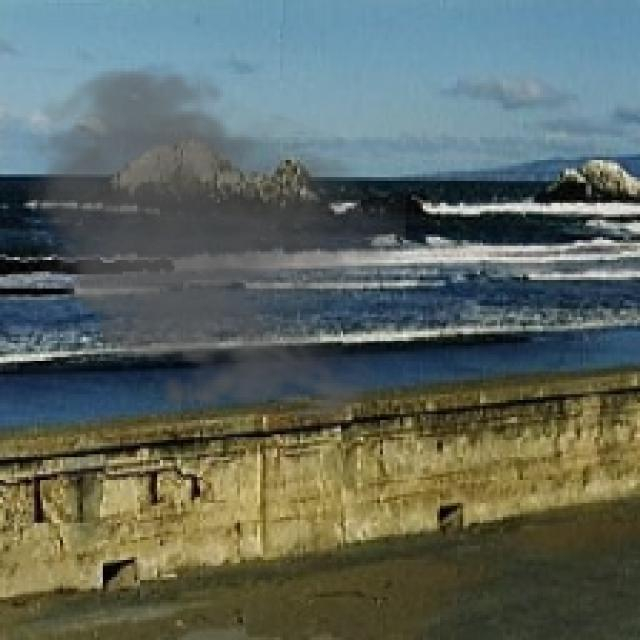smoke: (6, 60, 406, 434)
